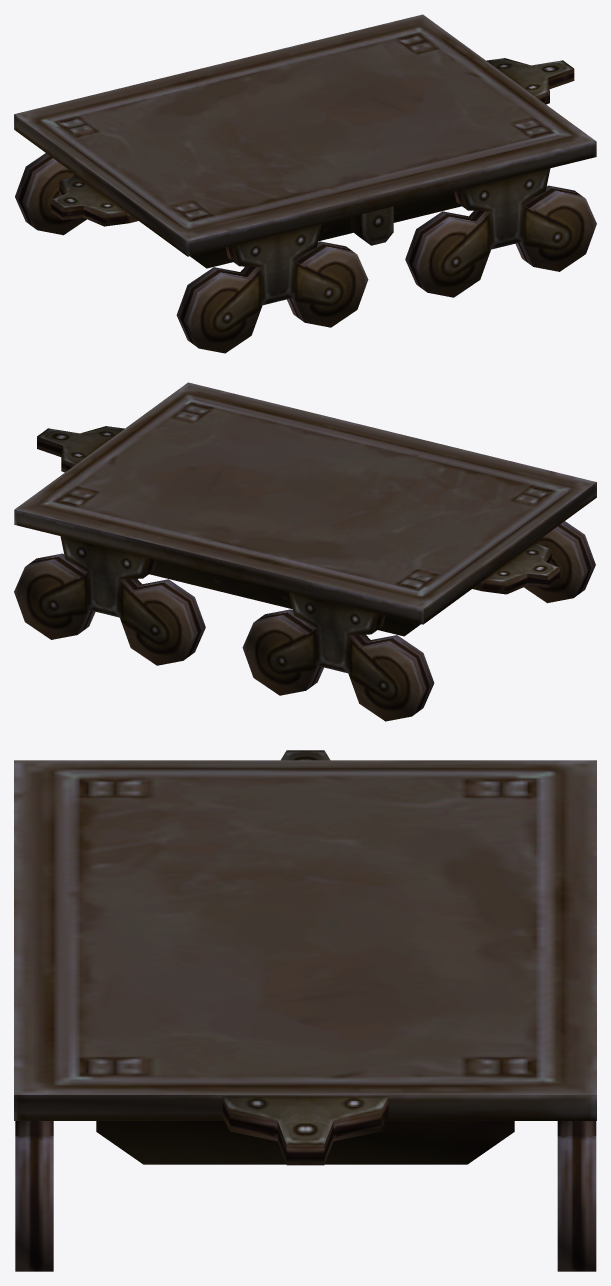
Rendered from train_03.fbx.
3 renders of one model, top to bottom at view 1: azimuth 30°, elevation 25°; view 2: azimuth 150°, elevation 25°; view 3: azimuth 270°, elevation 25°, orthographic. The views are drawn at different scales.
Visible parts, largest first — view 1: Object031; view 2: Object031; view 3: Object031.
Part boxes in pixels (bbox=[...]): Object031: bbox=[14, 14, 596, 353]; Object031: bbox=[14, 382, 596, 721]; Object031: bbox=[14, 750, 596, 1271].
Bounding box in the file's own units: 751 × 171 × 442.
Materials: 1 (1 with a texture image).
